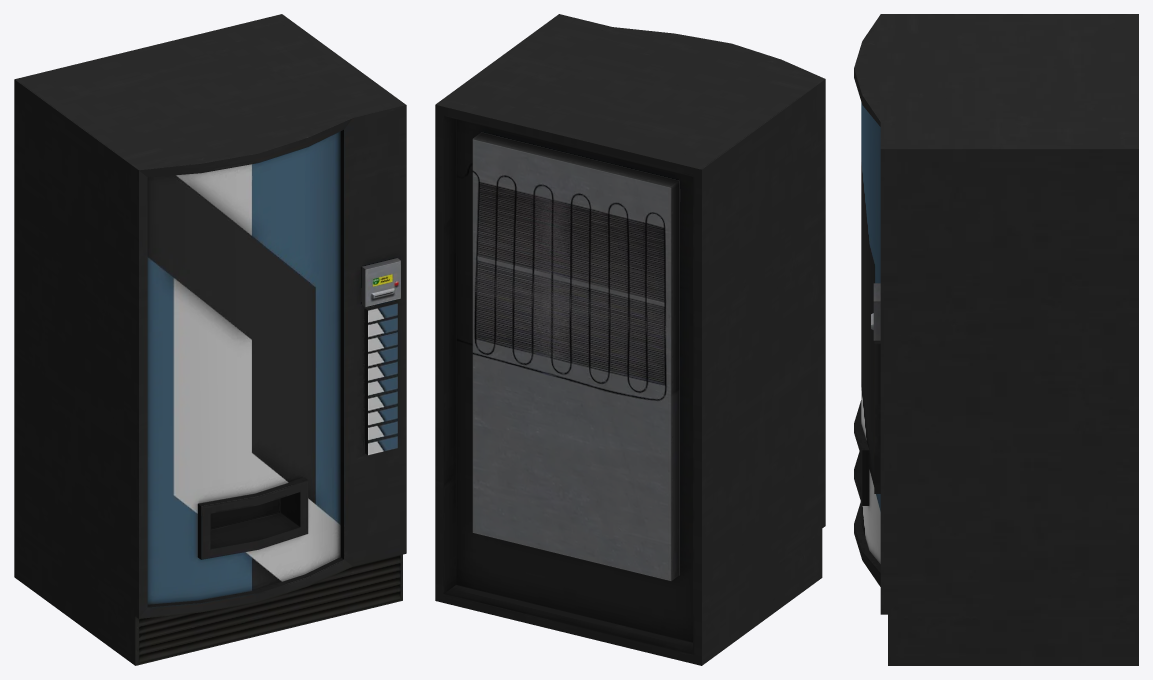
The model's file is soda_machine.glb.
The picture shows the model from 3 angles, left to right: view 1: azimuth 30°, elevation 25°; view 2: azimuth 150°, elevation 25°; view 3: azimuth 270°, elevation 25°; orthographic projection. The views are drawn at different scales.
Visible parts, largest first — view 1: Box001__0; view 2: Box001__0; view 3: Box001__0.
Part boxes in pixels (bbox=[...]): Box001__0: bbox=[14, 14, 406, 665]; Box001__0: bbox=[435, 14, 825, 665]; Box001__0: bbox=[854, 14, 1138, 665].
Size of the model in its own units: 45 by 80 by 39.99.
Materials: 1 (1 with a texture image).
